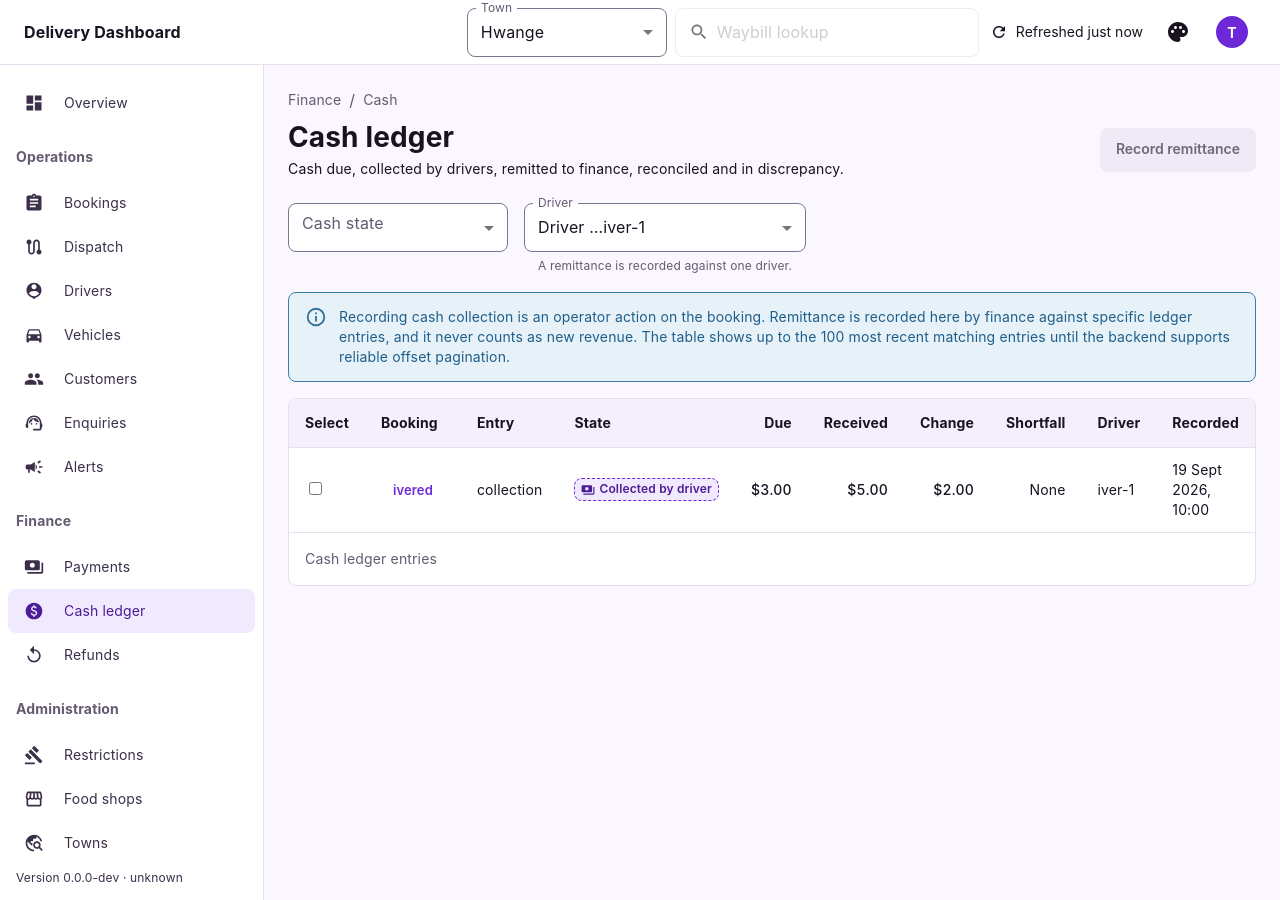
Scenario: PR review regressions › defaults remittance to cash retained after giving change
Click the checkbox named "Select ledger entry cash-1". click: (316, 489)
box: x1=309 y1=482 x2=322 y2=496
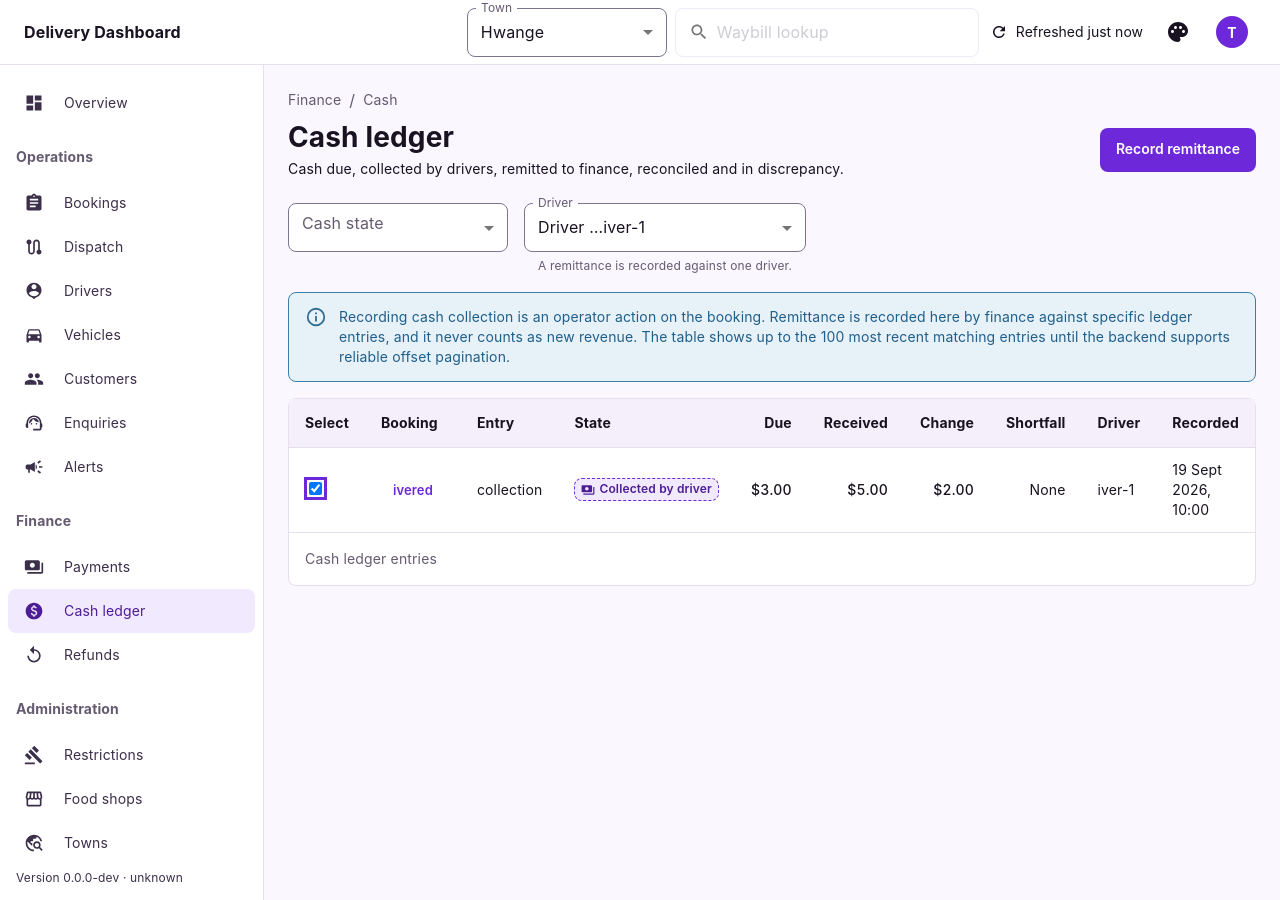
Click the button "Record remittance". click: (1178, 150)
box: x1=1100 y1=128 x2=1256 y2=172
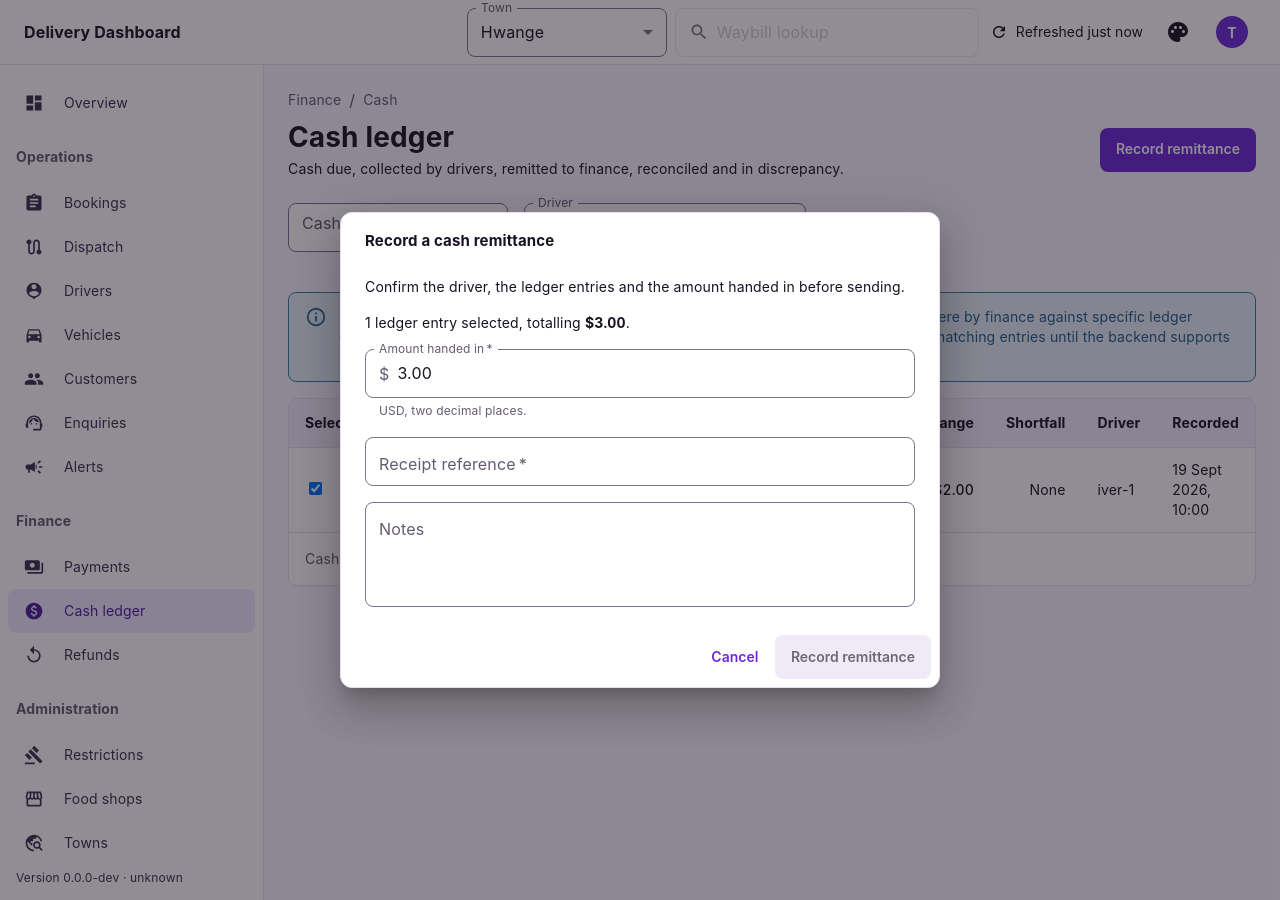
Expected: the field labelled "Amount handed in *" holds "3.00", x1=397 y1=349 x2=915 y2=398
